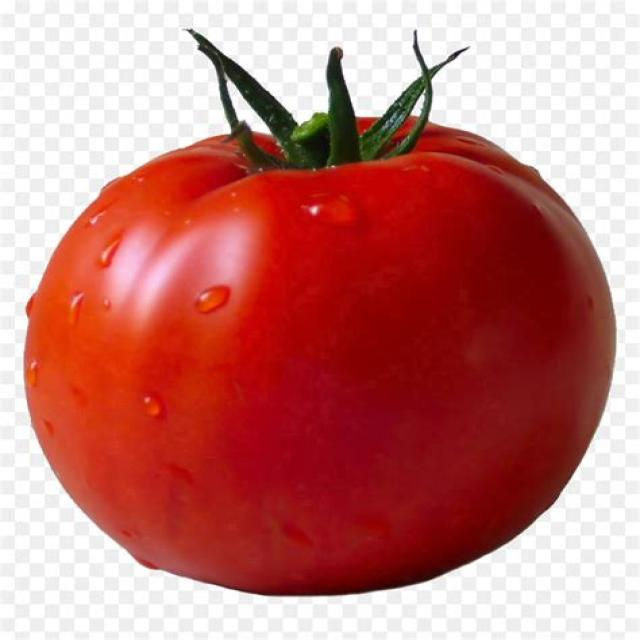Tomato: (22, 38, 618, 600)
